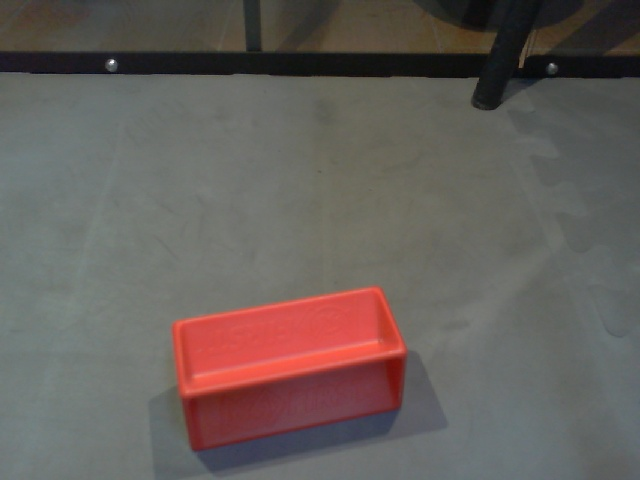RedSample: (172, 286, 407, 453)
